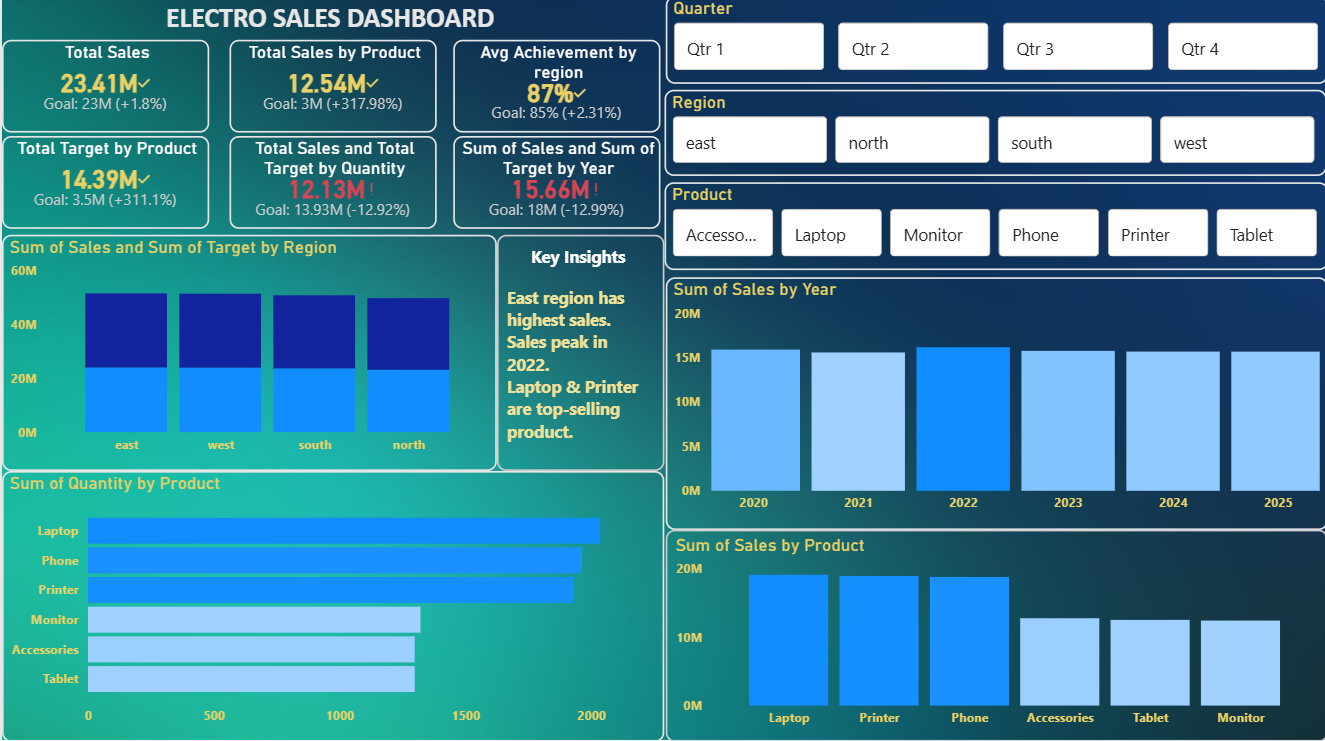

The dashboard page shown, as its layout file describes it:
{"tool":"powerbi","page":{"name":"Page 1","canvas":[1280,720],"ordinal":0},"visuals":[{"type":"columnChart","fields":{"Category":["Data table.Order Date.Variation.Date Hierarchy.Year"],"Y":["Sum(Data table.Sales)"]},"box":[640.6,271.4,639.4,243.7],"z":0},{"type":"textbox","box":[0,0,639.4,45.8],"z":1000},{"type":"columnChart","fields":{"Category":["Data table.Region "],"Y":["Sum(Data table.Sales)","Sum(Data table.Target)"]},"box":[0,230.4,477.8,228],"z":2000},{"type":"columnChart","fields":{"Category":["Data table.Product"],"Y":["Sum(Data table.Sales)"]},"box":[640.6,515.2,639.4,205.1],"z":3000},{"type":"barChart","fields":{"Category":["Data table.Product"],"Y":["Sum(Data table.Quantity)"]},"box":[0,458.4,639.4,261.8],"z":4000},{"type":"kpi","title":"Total Sales by Product","fields":{"TrendLine":["Data table.Product"],"Indicator":["Sum(Data table.Sales)"],"Goal":["Data table.Measure 3"]},"box":[219.6,42.2,200.3,89.3],"z":5000},{"type":"kpi","title":"Avg of Achievement by region","fields":{"TrendLine":["Data table.Region "],"Goal":["Data table.Measure"],"Indicator":["Avg(Data table.Achievement)"]},"box":[435.5,42.2,200.3,89.3],"z":6000},{"type":"advancedSlicerVisual","fields":{"Values":["Data table.Order Date.Variation.Date Hierarchy.Quarter"]},"box":[640.6,0,639.4,85],"z":7000},{"type":"advancedSlicerVisual","fields":{"Values":["Data table.Product"]},"box":[639.4,179.8,640.6,84.5],"z":8000},{"type":"advancedSlicerVisual","fields":{"Values":["Data table.Region "]},"box":[639.4,90.5,639.4,83.2],"z":9000},{"type":"kpi","title":"Total Target by Product","fields":{"Indicator":["Sum(Data table.Target)"],"TrendLine":["Data table.Product"],"Goal":["Data table.Measure 4"]},"box":[0,135.1,200.3,89.3],"z":11000},{"type":"kpi","title":"Total Sales and Total Target by Quantity","fields":{"Indicator":["Sum(Data table.Sales)"],"TrendLine":["Data table.Quantity"],"Goal":["Sum(Data table.Target)"]},"box":[219.6,135.1,200.3,89.3],"z":12000},{"type":"kpi","fields":{"Indicator":["Sum(Data table.Sales)"],"TrendLine":["Data table.Order Date.Variation.Date Hierarchy.Year"],"Goal":["Sum(Data table.Target)"]},"box":[435.5,135.1,200.3,89.3],"z":13000},{"type":"textbox","box":[477.8,230.4,160.5,228],"z":14000},{"type":"kpi","title":"Total Sales ","fields":{"Indicator":["Sum(Data table.Sales)"],"TrendLine":["Data table.Order Date.Variation.Date Hierarchy.Quarter"],"Goal":["Data table.Measure 2"]},"box":[0,42.2,200.3,89.3],"z":15000}]}

Visuals, with their boxes in screenshot pixels (x1, y1, x2, y2), scaled from the page's 1280x720 canvas onto the 1325x741 screenshot:
columnChart - Data table.Order Date.Variation.Date Hierarchy.Year x Sum(Data table.Sales): {"x1": 663, "y1": 279, "x2": 1324, "y2": 530}
textbox: {"x1": 0, "y1": 0, "x2": 662, "y2": 47}
columnChart - Data table.Region  x Sum(Data table.Sales): {"x1": 0, "y1": 237, "x2": 495, "y2": 472}
columnChart - Data table.Product x Sum(Data table.Sales): {"x1": 663, "y1": 530, "x2": 1324, "y2": 740}
barChart - Data table.Product x Sum(Data table.Quantity): {"x1": 0, "y1": 472, "x2": 662, "y2": 740}
"Total Sales by Product" kpi: {"x1": 227, "y1": 43, "x2": 435, "y2": 135}
"Avg of Achievement by region" kpi: {"x1": 451, "y1": 43, "x2": 658, "y2": 135}
advancedSlicerVisual - Data table.Order Date.Variation.Date Hierarchy.Quarter: {"x1": 663, "y1": 0, "x2": 1324, "y2": 87}
advancedSlicerVisual - Data table.Product: {"x1": 662, "y1": 185, "x2": 1324, "y2": 272}
advancedSlicerVisual - Data table.Region : {"x1": 662, "y1": 93, "x2": 1324, "y2": 179}
"Total Target by Product" kpi: {"x1": 0, "y1": 139, "x2": 207, "y2": 231}
"Total Sales and Total Target by Quantity" kpi: {"x1": 227, "y1": 139, "x2": 435, "y2": 231}
kpi - Sum(Data table.Sales) x Data table.Order Date.Variation.Date Hierarchy.Year: {"x1": 451, "y1": 139, "x2": 658, "y2": 231}
textbox: {"x1": 495, "y1": 237, "x2": 661, "y2": 472}
"Total Sales " kpi: {"x1": 0, "y1": 43, "x2": 207, "y2": 135}
